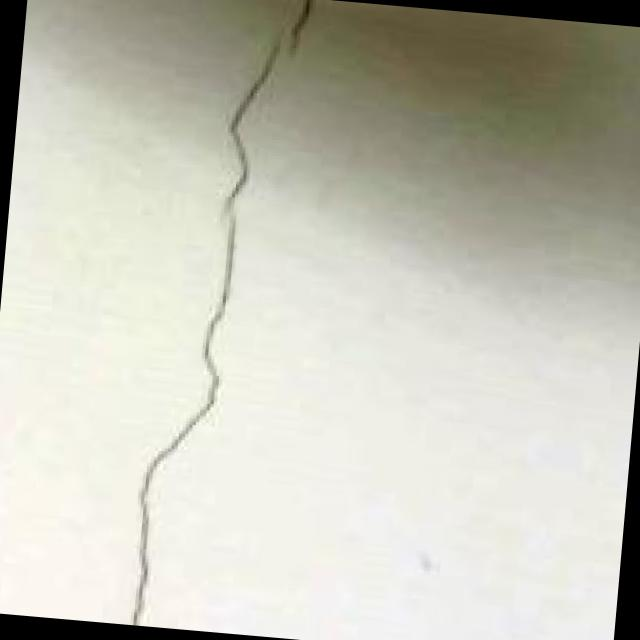crack: (104, 0, 335, 634)
